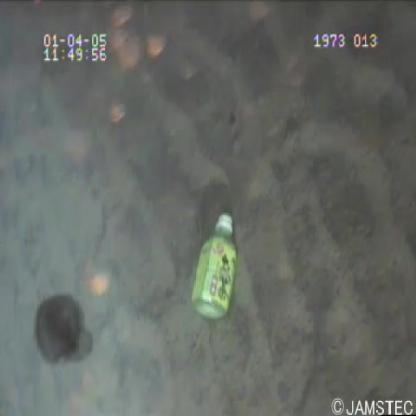Rác: (186, 205, 246, 330)
